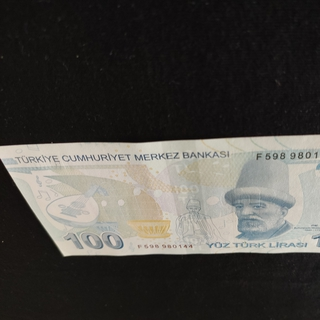100TLBack: (0, 132, 320, 257)
